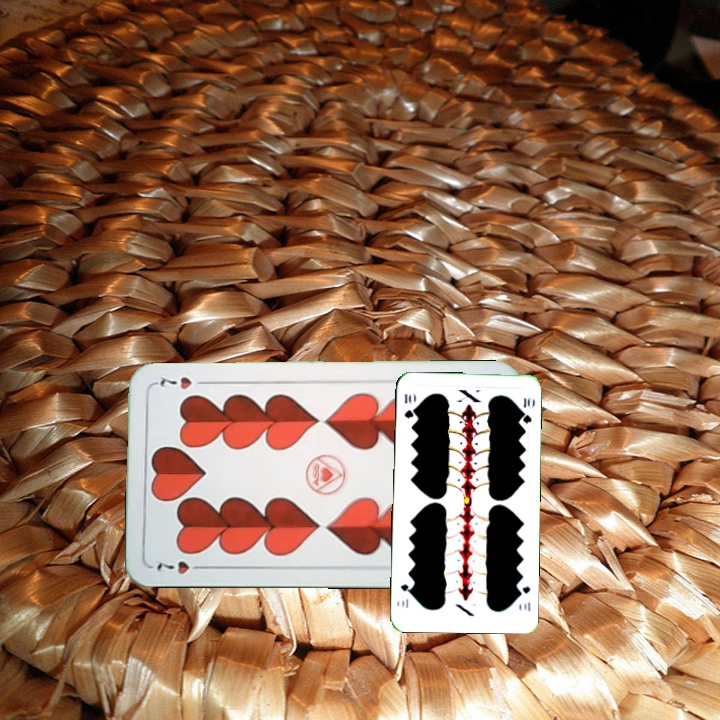G10: (514, 582, 533, 614), (400, 390, 416, 421)
H7: (153, 557, 209, 577)
